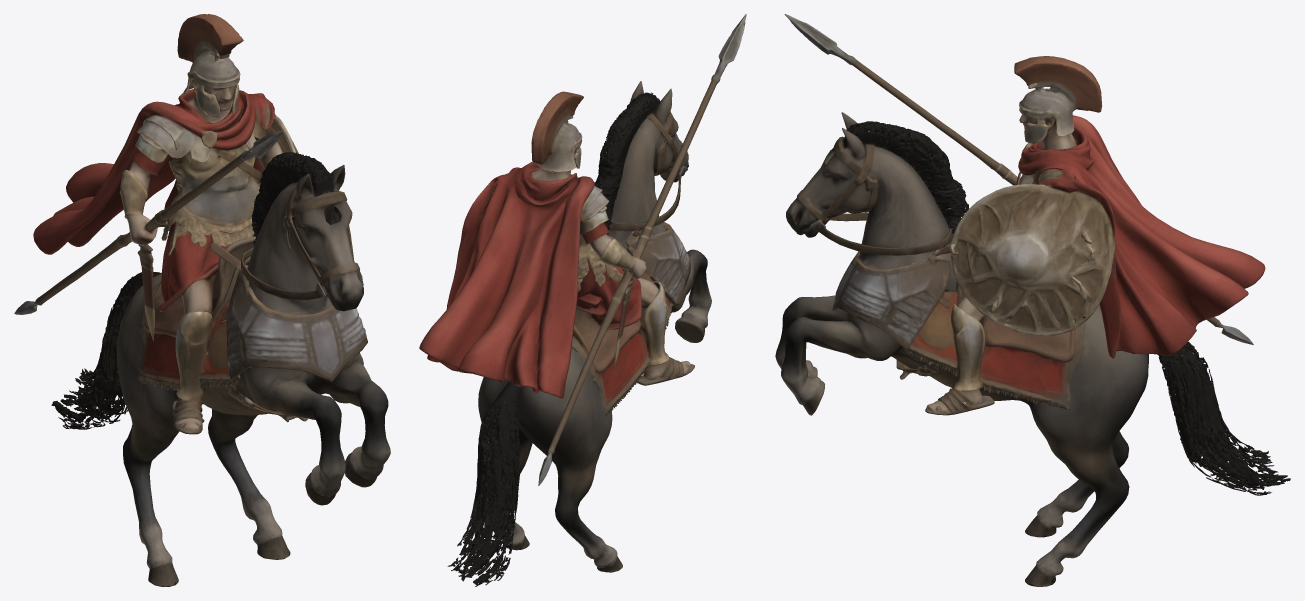
File: light_knight.glb
3 views of the same model, side by side, from view 1: azimuth 30°, elevation 25°; view 2: azimuth 150°, elevation 25°; view 3: azimuth 270°, elevation 25° (orthographic). The views are drawn at different scales.
Visible parts, largest first — view 1: geom0; view 2: geom0; view 3: geom0.
Part boxes in pixels (box(x1,y1,x2,y2)): geom0: box(14, 14, 390, 586); geom0: box(419, 14, 746, 586); geom0: box(775, 14, 1290, 586).
Size of the model in its own units: 0.3621 by 1 by 0.9195.
Materials: 1 (1 with a texture image).
